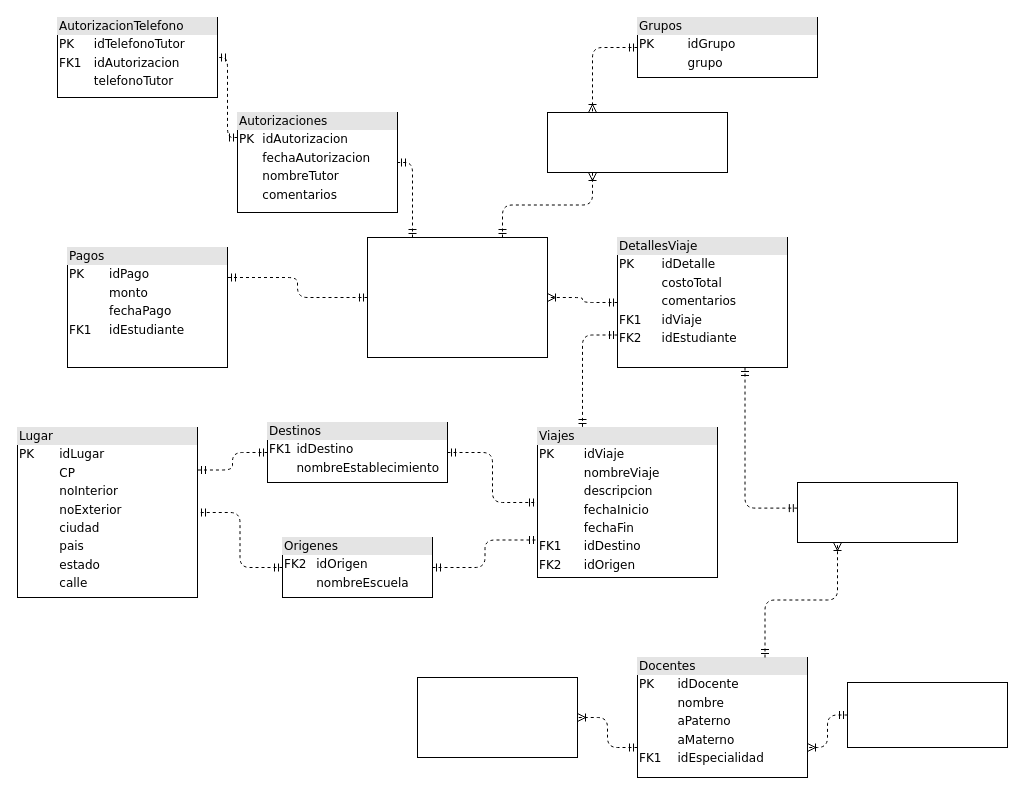
Some shapes in this 1025 by 795 pixel diagram are drawn without their labels. The shapes that lost their labels are listed below. From the top down, each one's centre as x and y in pixels, then its label:
At (x=637, y=142): "GrupoAlumno FK1 idGrupo FK2 idEstudiante".
At (x=457, y=297): "Estudiantes PK idEstudiante nombre aPaterno aMaterno FK2 idAutorizacion".
At (x=877, y=512): "DocentesACargo FK1 idDetalle FK2 idDocente".
At (x=497, y=717): "TelefonoDocentes PK idTelefonoDocente FK1 idDocente telefono".
At (x=927, y=715): "Especialidades PK idEspecialidad especialidad".
